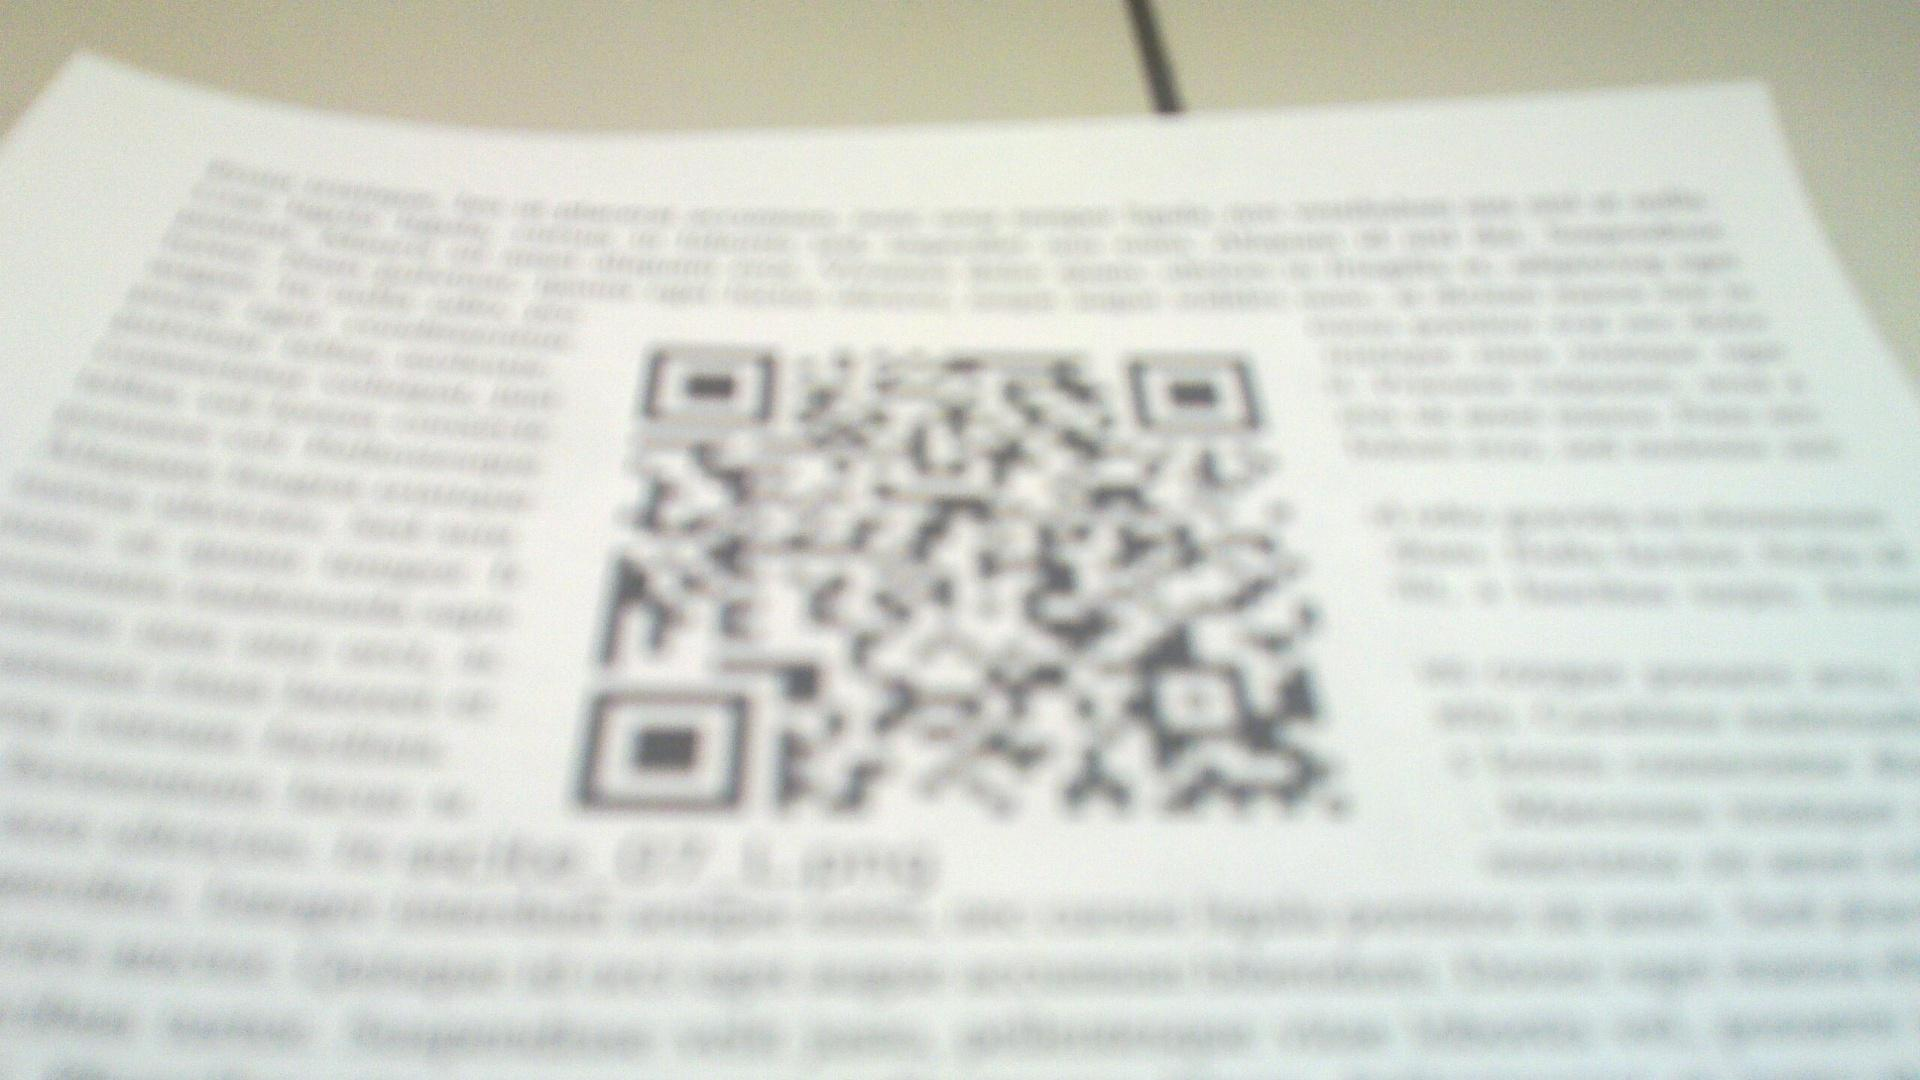Finder pattern: (571, 687, 764, 822), (1116, 344, 1269, 440), (632, 336, 785, 429)
